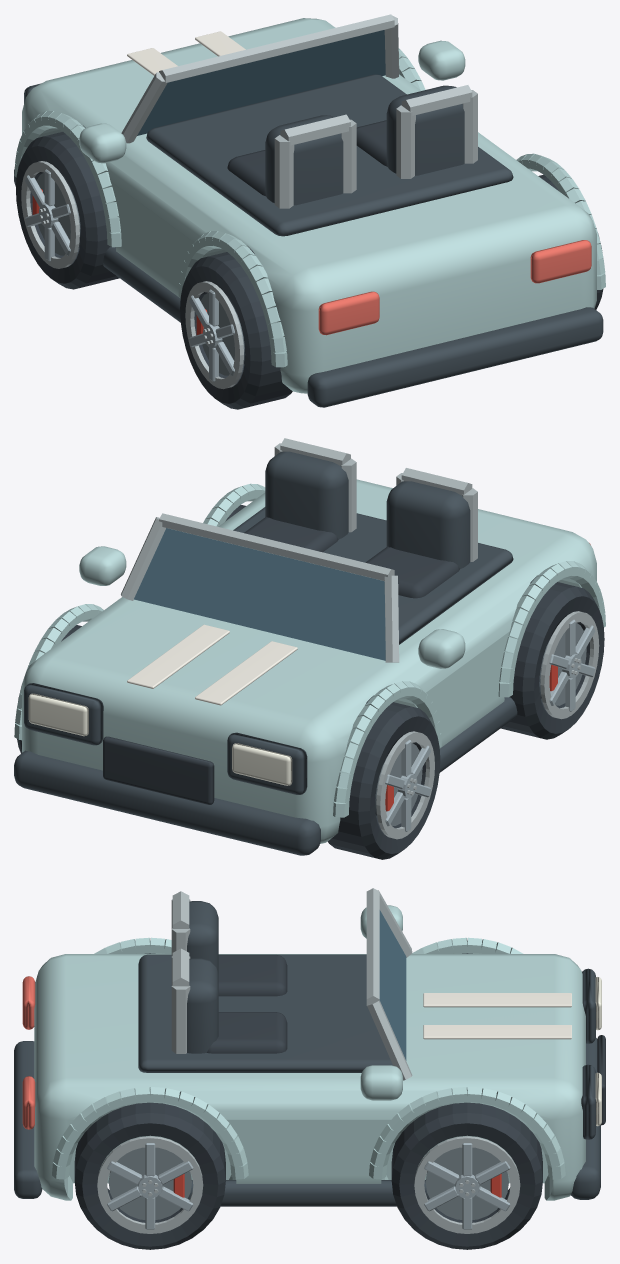
The model's file is car_roadster.glb.
The picture shows the model from 3 angles, top to bottom: view 1: azimuth 30°, elevation 25°; view 2: azimuth 150°, elevation 25°; view 3: azimuth 270°, elevation 25°; orthographic projection. The views are drawn at different scales.
Parts seen in each view (by area): view 1: Body.005, WheelMesh.022, WheelMesh.020; view 2: Body.005, WheelMesh.020, WheelMesh.022; view 3: Body.005, WheelMesh.023, WheelMesh.021.
Boxes of the visible parts, <box> form: Body.005: <box>14,14,605,407</box>; WheelMesh.022: <box>180,246,292,409</box>; WheelMesh.020: <box>16,126,119,289</box>; Body.005: <box>14,438,605,855</box>; WheelMesh.020: <box>327,697,440,859</box>; WheelMesh.022: <box>500,577,604,739</box>; Body.005: <box>14,888,605,1206</box>; WheelMesh.023: <box>74,1102,225,1249</box>; WheelMesh.021: <box>391,1102,542,1249</box>.
Bounding box in the file's own units: 2.64 × 1.65 × 3.76.
